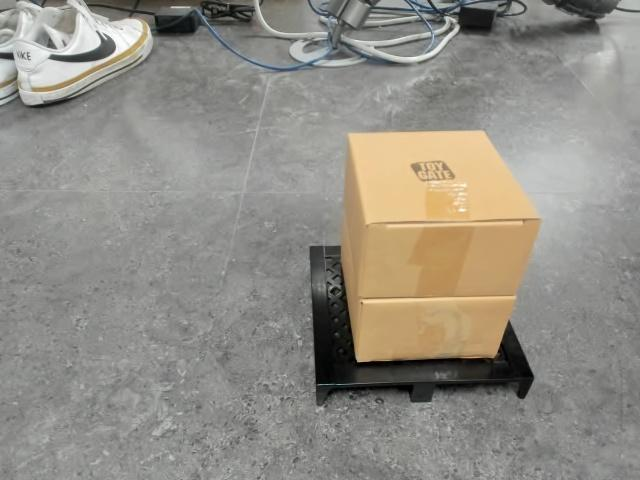box: (307, 129, 545, 407)
